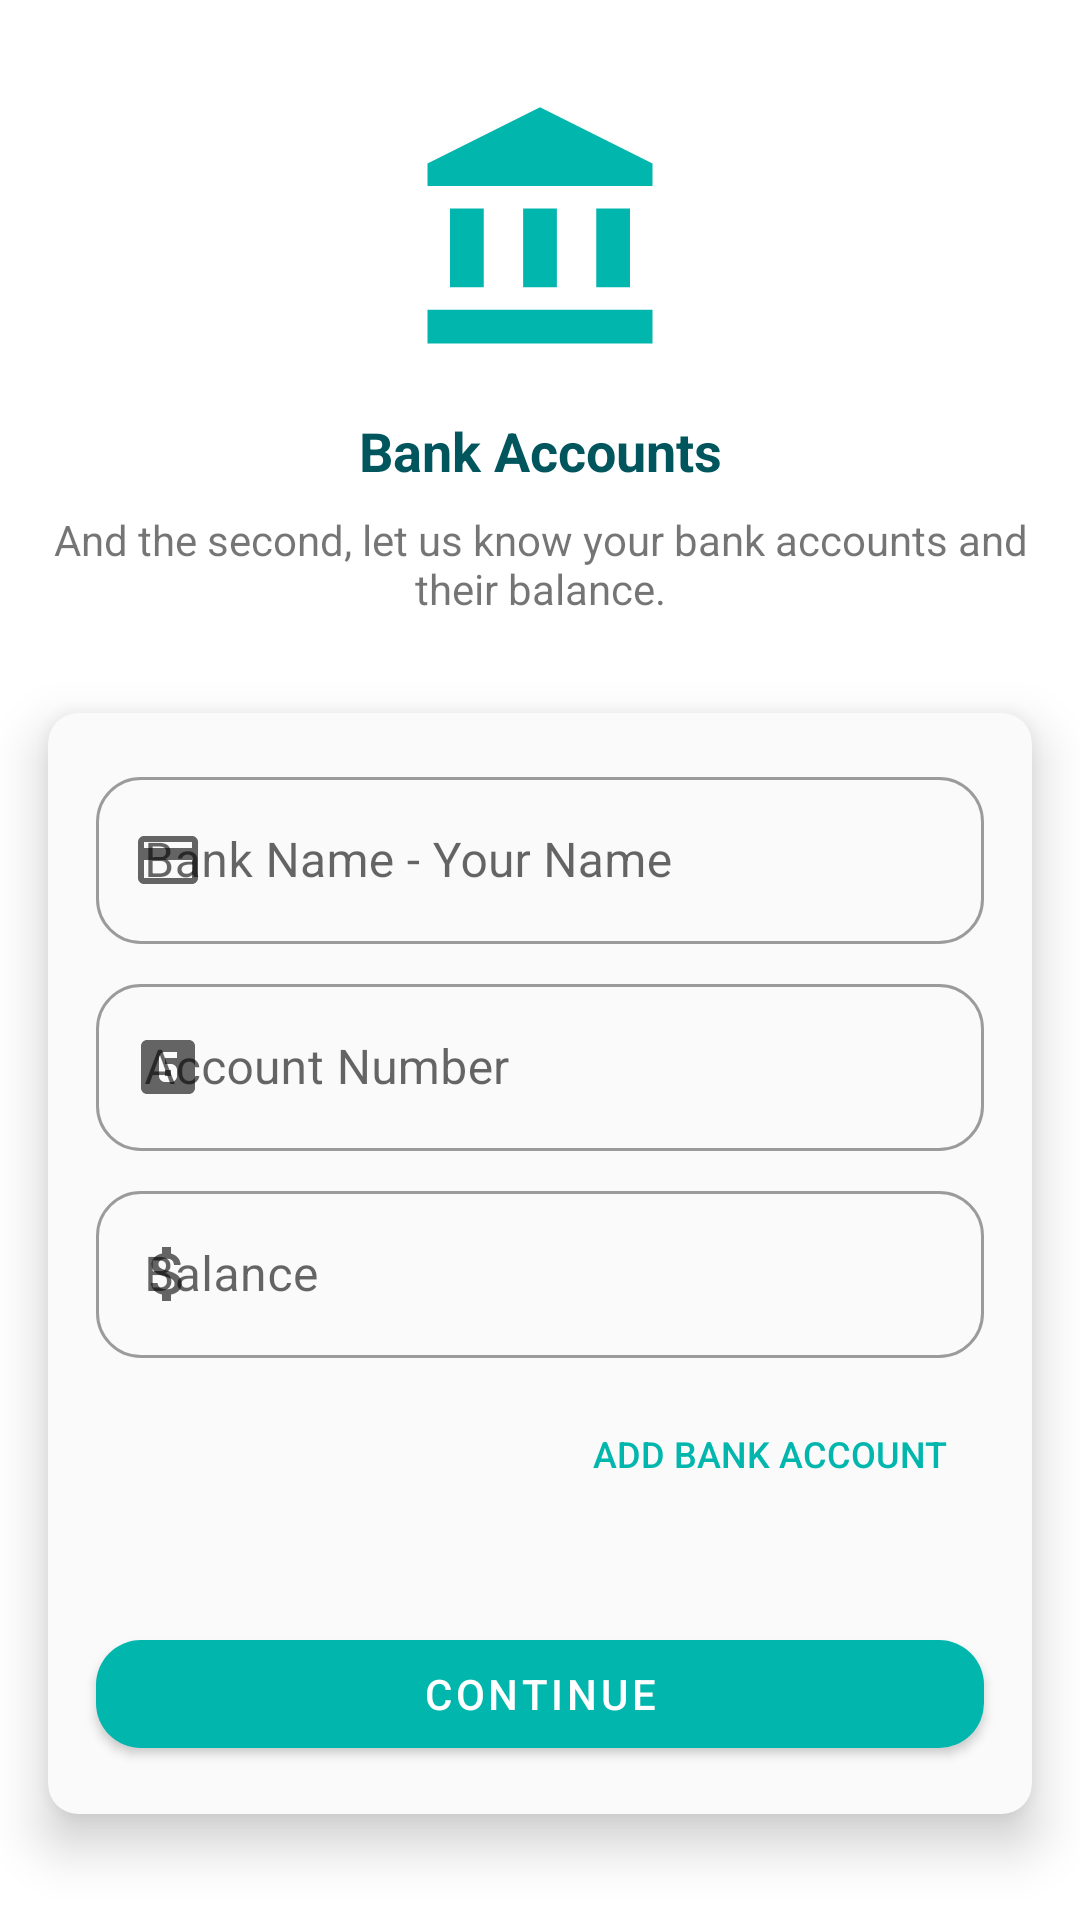

Icons on this 1080×1920 Android screen, each with its box as (x1, y1, x2, y2):
account balance: (427, 107, 653, 344)
